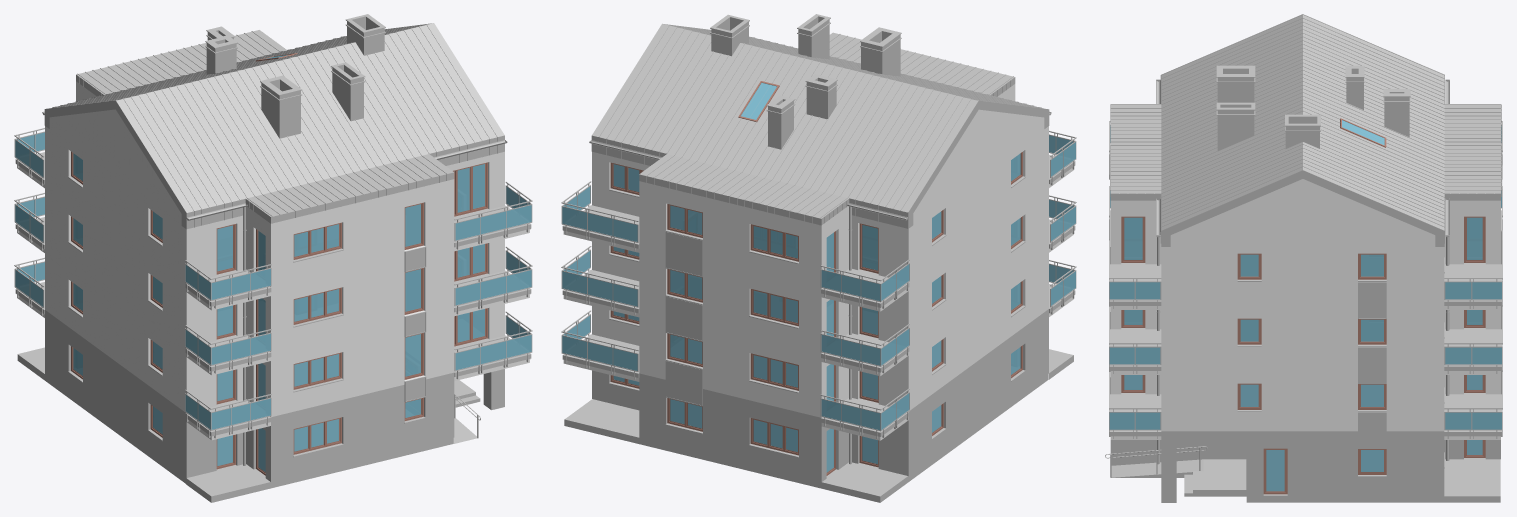
Rendered from house.dae.
The picture shows the model from 3 angles, left to right: view 1: azimuth 30°, elevation 25°; view 2: azimuth 150°, elevation 25°; view 3: azimuth 270°, elevation 25°; orthographic projection.
Parts seen in each view (by area): view 1: building_walls, roof, foundation_wall, window_005, barrels, chimney, balcony, metal_cover, terrace, boards, eneter_floor, gutters_003; view 2: building_walls, roof, foundation_wall, window_005, barrels, chimney, balcony, terrace, boards_001, metal_cover, window_roof, gutters_003; view 3: building_walls, roof, foundation_wall, window_005, barrels, balcony, chimney, boards_001, eneter_floor, terrace, metal_cover, roof_plate (+3 smaller).
Part boxes in pixels (<box>): building_walls: <box>45,81,504,417</box>; roof: <box>44,23,504,229</box>; foundation_wall: <box>45,310,454,488</box>; window_005: <box>68,151,487,475</box>; barrels: <box>14,128,532,438</box>; chimney: <box>205,14,385,138</box>; balcony: <box>17,152,529,440</box>; metal_cover: <box>15,152,531,436</box>; terrace: <box>17,347,270,502</box>; boards: <box>404,246,426,402</box>; eneter_floor: <box>453,380,480,443</box>; gutters_003: <box>42,111,507,220</box>; building_walls: <box>592,84,1048,417</box>; roof: <box>591,23,1049,228</box>; foundation_wall: <box>592,309,1048,488</box>; window_005: <box>609,152,1025,475</box>; barrels: <box>561,130,1076,438</box>; chimney: <box>710,14,901,149</box>; balcony: <box>563,155,1073,440</box>; terrace: <box>564,349,1073,502</box>; boards_001: <box>665,232,702,406</box>; metal_cover: <box>562,155,1075,436</box>; window_roof: <box>738,81,779,121</box>; gutters_003: <box>589,111,1051,220</box>; building_walls: <box>1110,179,1500,502</box>; roof: <box>1110,14,1501,246</box>; foundation_wall: <box>1110,431,1500,502</box>; window_005: <box>1110,165,1502,496</box>; barrels: <box>1109,121,1502,438</box>; balcony: <box>1110,263,1500,439</box>; chimney: <box>1216,65,1410,151</box>; boards_001: <box>1358,213,1501,448</box>; eneter_floor: <box>1111,459,1246,496</box>; terrace: <box>1444,458,1500,502</box>; metal_cover: <box>1109,145,1501,436</box>; roof_plate: <box>1110,193,1500,200</box>.
Bounding box in the file's own units: 15.55 × 16.63 × 16.11.
